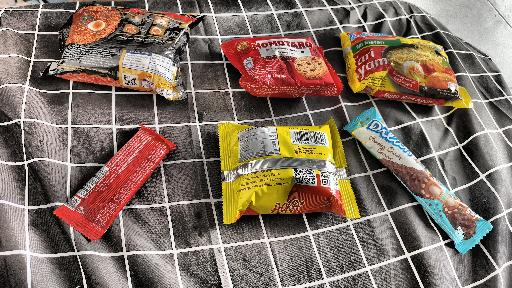chocho: (341, 106, 498, 265), (59, 129, 200, 249)
indomie: (323, 24, 477, 133)
mie sedap: (26, 0, 207, 108)
momotaro: (208, 117, 363, 217), (216, 25, 350, 114)
